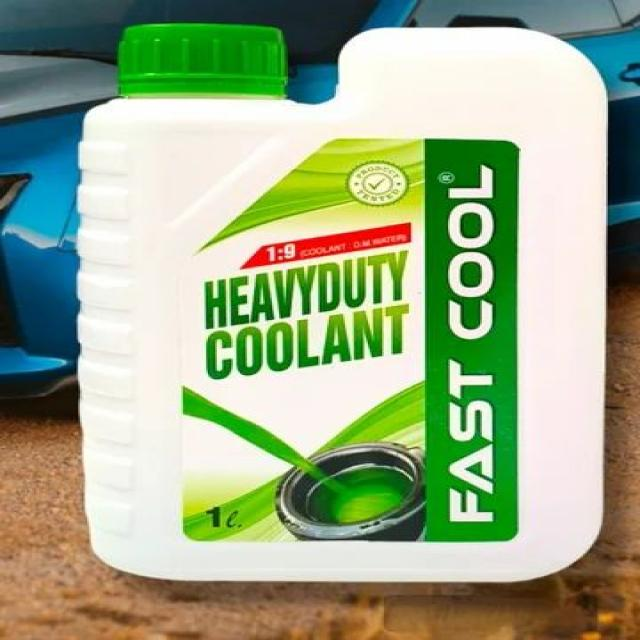coolant: (80, 19, 606, 586)
